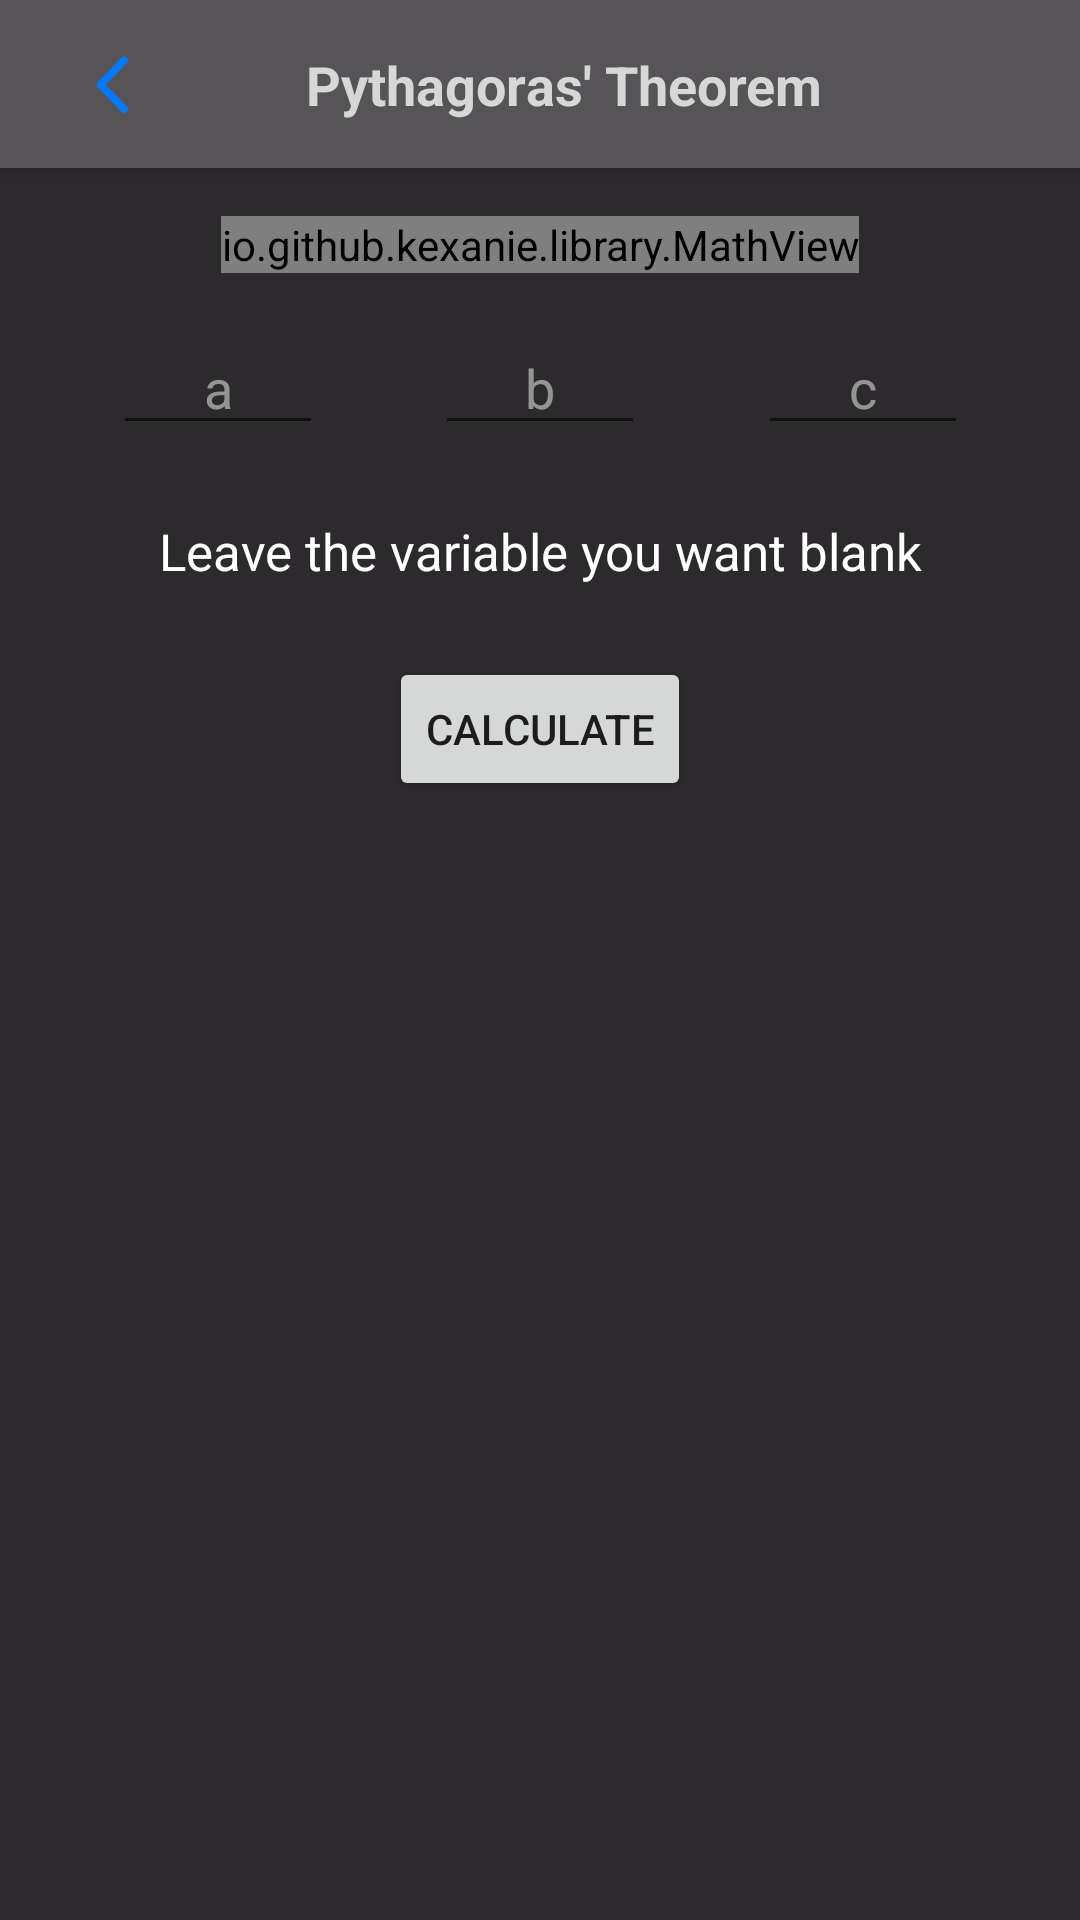

Where icons sit on this 1080px x 1920px app screen, as [x1,y1,x2,y2]:
back: [96,56,128,113]
